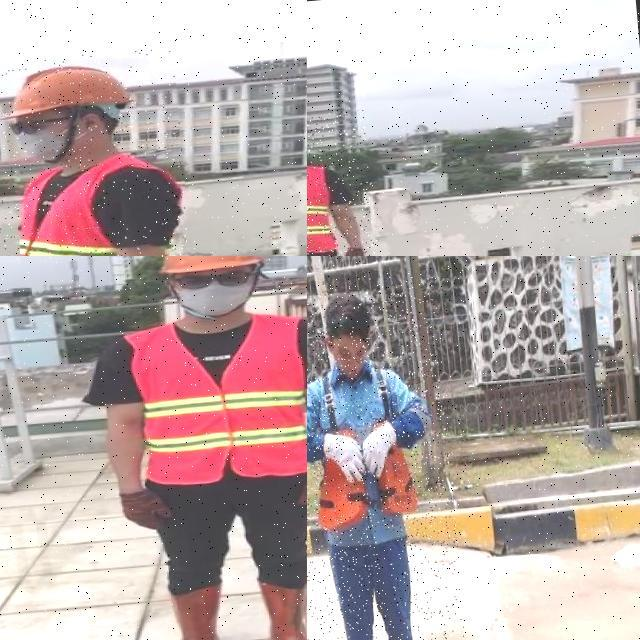boots: (155, 583, 232, 640), (258, 573, 307, 640)
helmet: (0, 58, 136, 121), (150, 256, 267, 279)
vest: (123, 309, 307, 489), (307, 362, 428, 538), (0, 152, 185, 256), (307, 164, 336, 256)
